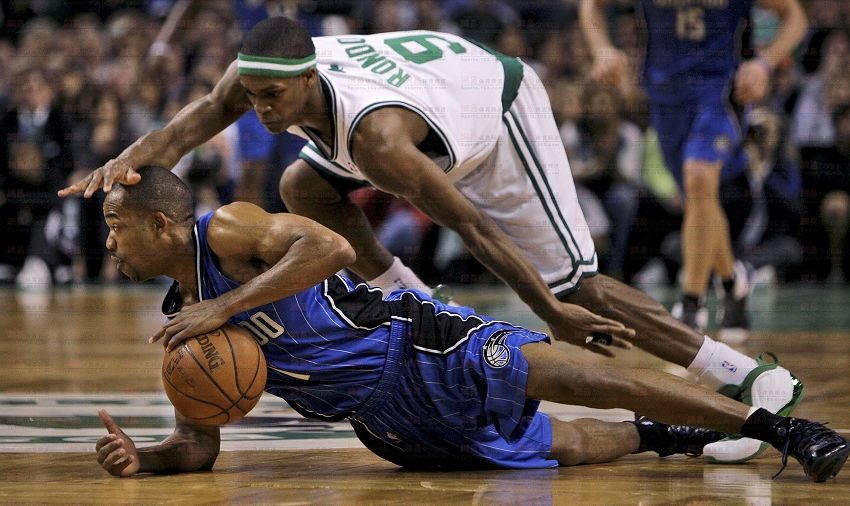10+: (1, 1, 850, 467)
down: (86, 161, 849, 481)
